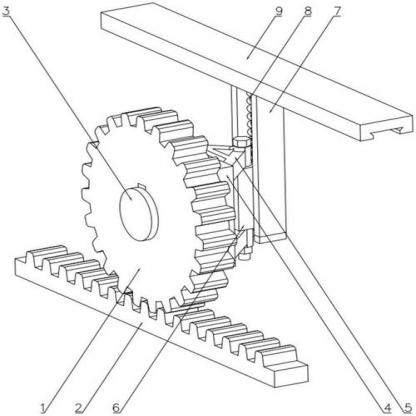FOD: (76, 101, 248, 313)
